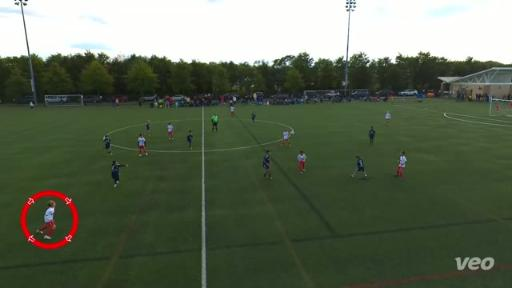highlight_overlay: (19, 190, 79, 250)
